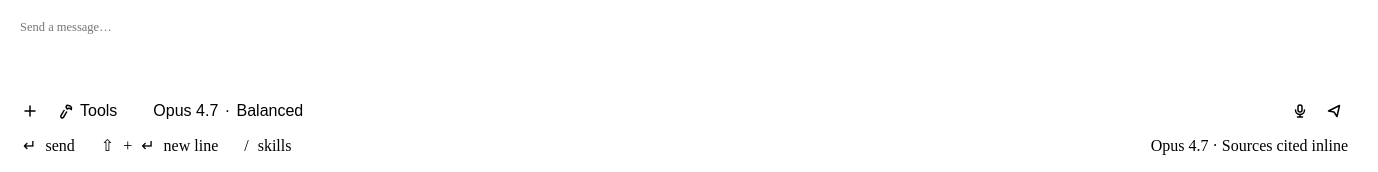
it: Composer › shows a safe dictation error and lets typing dismiss it
Click the button with test id "composer-mic".
click(1300, 111)  # box [1286,97,1314,125]
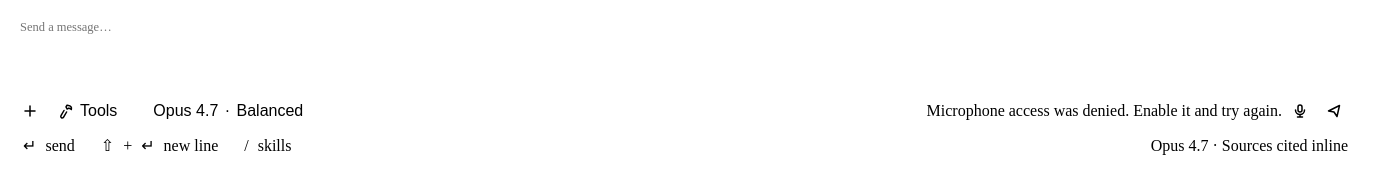
Check: the message shows "Microphone access was denied", box [927,102,1282,119]
Type "typed instead" into the text box with test id "composer-textarea".
click(687, 48); type("typed instead")  # box [8,8,1366,89]
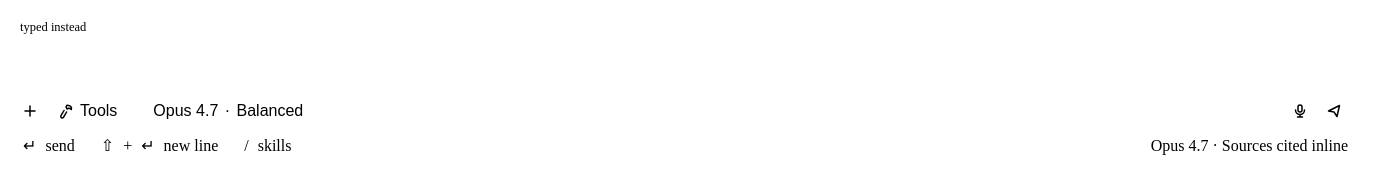
Check: the message "Microphone access was denied. Enable it and try again." is gone
